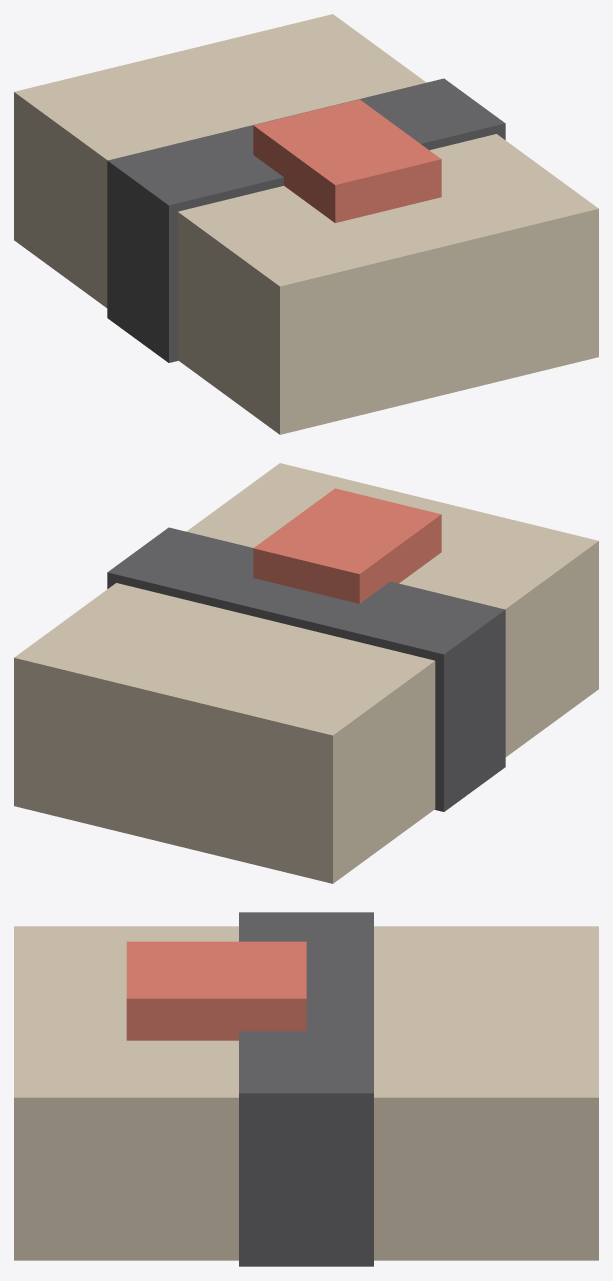
The model's file is SM_TimedExplosiveCharge.fbx.
3 renders of one model, top to bottom at view 1: azimuth 30°, elevation 25°; view 2: azimuth 150°, elevation 25°; view 3: azimuth 270°, elevation 25°, orthographic. The views are drawn at different scales.
Parts seen in each view (by area): view 1: SM_TimedExplosiveCharge; view 2: SM_TimedExplosiveCharge; view 3: SM_TimedExplosiveCharge.
Part boxes in pixels (bbox=[...]): SM_TimedExplosiveCharge: bbox=[14, 14, 598, 434]; SM_TimedExplosiveCharge: bbox=[14, 463, 598, 883]; SM_TimedExplosiveCharge: bbox=[14, 912, 598, 1266].
Size of the model in its own units: 1900 by 2600 by 1010.
